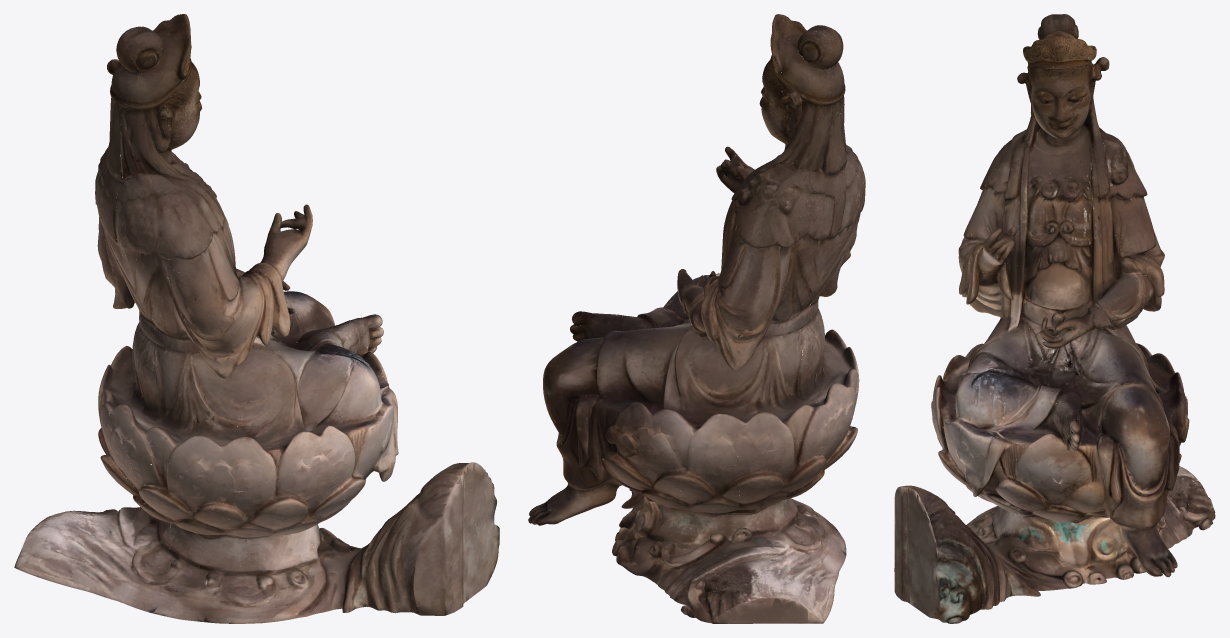
File: f4-manjushri.glb
The picture shows the model from 3 angles, left to right: view 1: azimuth 30°, elevation 25°; view 2: azimuth 150°, elevation 25°; view 3: azimuth 270°, elevation 25°; orthographic projection. The views are drawn at different scales.
Visible parts, largest first — view 1: tripo_node_d21a0be3-cb9b-4445-be05-2b13fb5b4604; view 2: tripo_node_d21a0be3-cb9b-4445-be05-2b13fb5b4604; view 3: tripo_node_d21a0be3-cb9b-4445-be05-2b13fb5b4604.
Boxes of the visible parts, x1,y1,x2,y2 form: tripo_node_d21a0be3-cb9b-4445-be05-2b13fb5b4604: (14,14,499,623); tripo_node_d21a0be3-cb9b-4445-be05-2b13fb5b4604: (528,14,865,623); tripo_node_d21a0be3-cb9b-4445-be05-2b13fb5b4604: (894,14,1215,623).
Size of the model in its own units: 0.6503 by 1 by 0.5916.
1 material, 1 textured.
